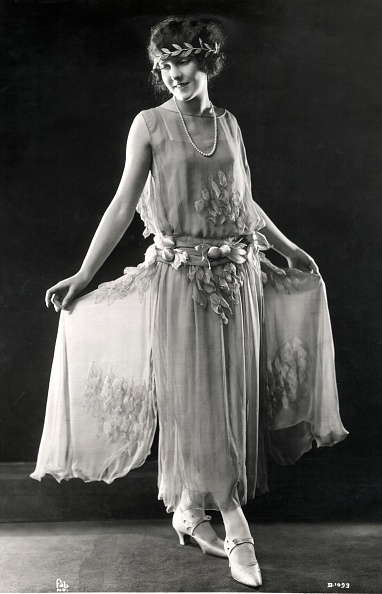em pe: (71, 8, 304, 576)
